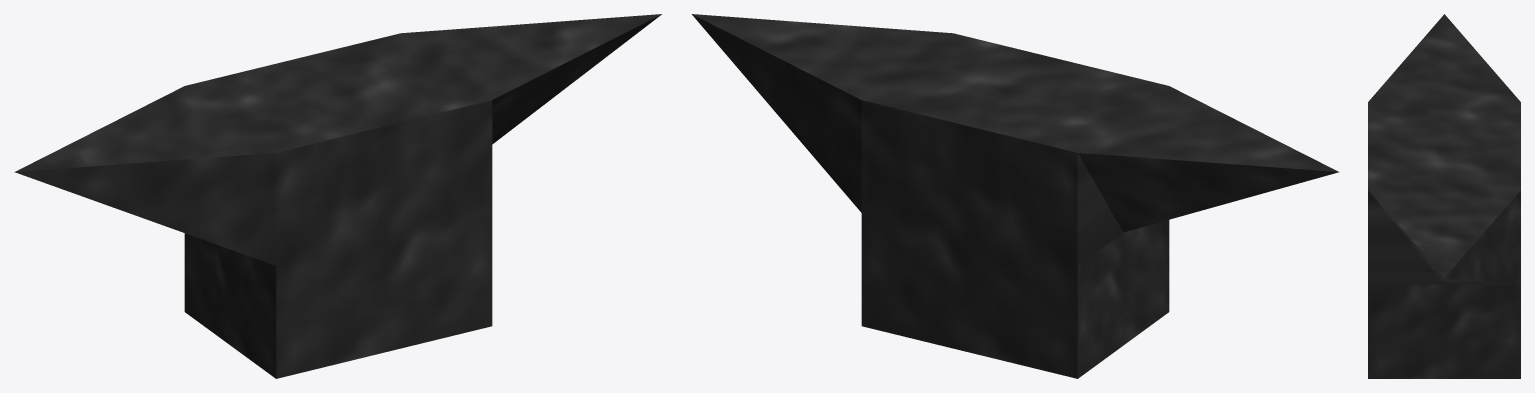
The model's file is anvil.obj.
The picture shows the model from 3 angles, left to right: view 1: azimuth 30°, elevation 25°; view 2: azimuth 150°, elevation 25°; view 3: azimuth 270°, elevation 25°; orthographic projection. The views are drawn at different scales.
Parts seen in each view (by area): view 1: anvil_Cube; view 2: anvil_Cube; view 3: anvil_Cube.
Part boxes in pixels (box(x1,y1,x2,y2)): anvil_Cube: box(14, 14, 661, 378); anvil_Cube: box(692, 14, 1339, 378); anvil_Cube: box(1368, 14, 1520, 378).
Size of the model in its own units: 6 by 2 by 1.47.
Materials: 1 (1 with a texture image).
